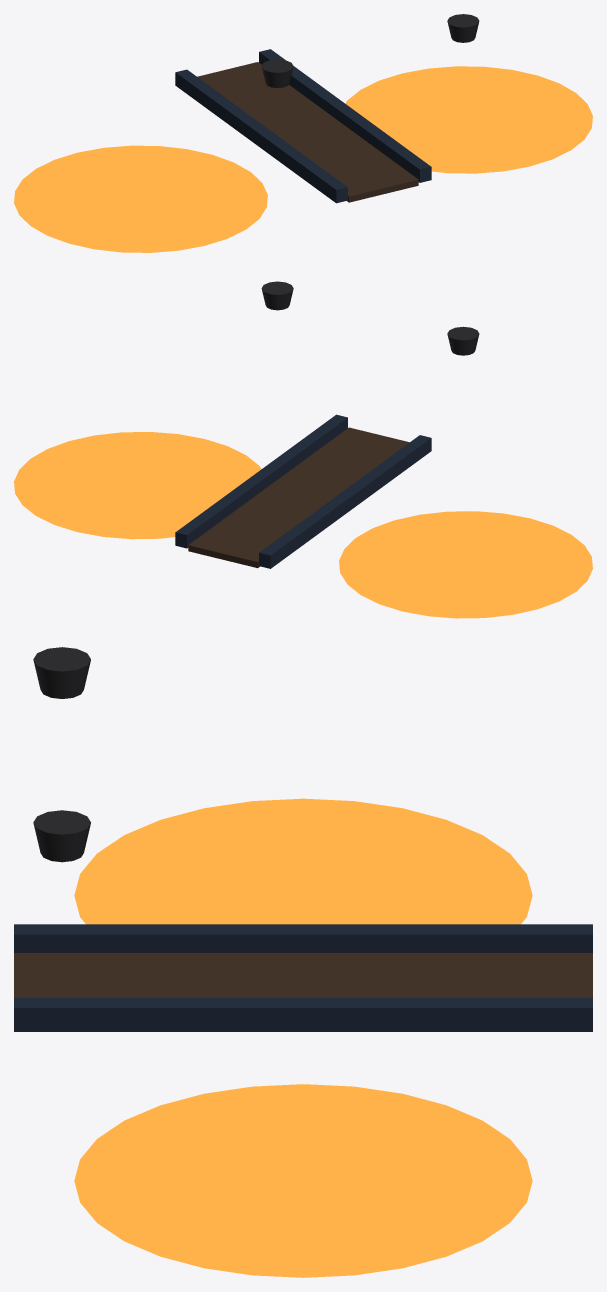
The model's file is vol_04.glb.
3 renders of one model, top to bottom at view 1: azimuth 30°, elevation 25°; view 2: azimuth 150°, elevation 25°; view 3: azimuth 270°, elevation 25°, orthographic. The views are drawn at different scales.
Parts seen in each view (by area): view 1: VOL_04, scenario_tile_box_floor; view 2: VOL_04, scenario_tile_box_floor; view 3: VOL_04, scenario_tile_box_floor.
Boxes of the visible parts, box(x1,y1,x2,y2) form: VOL_04: box(14, 14, 592, 252); scenario_tile_box_floor: box(197, 62, 418, 202); VOL_04: box(14, 281, 592, 618); scenario_tile_box_floor: box(188, 427, 409, 568); VOL_04: box(14, 647, 592, 1277); scenario_tile_box_floor: box(14, 953, 592, 997).
Size of the model in its own units: 47 by 13.6 by 24.
